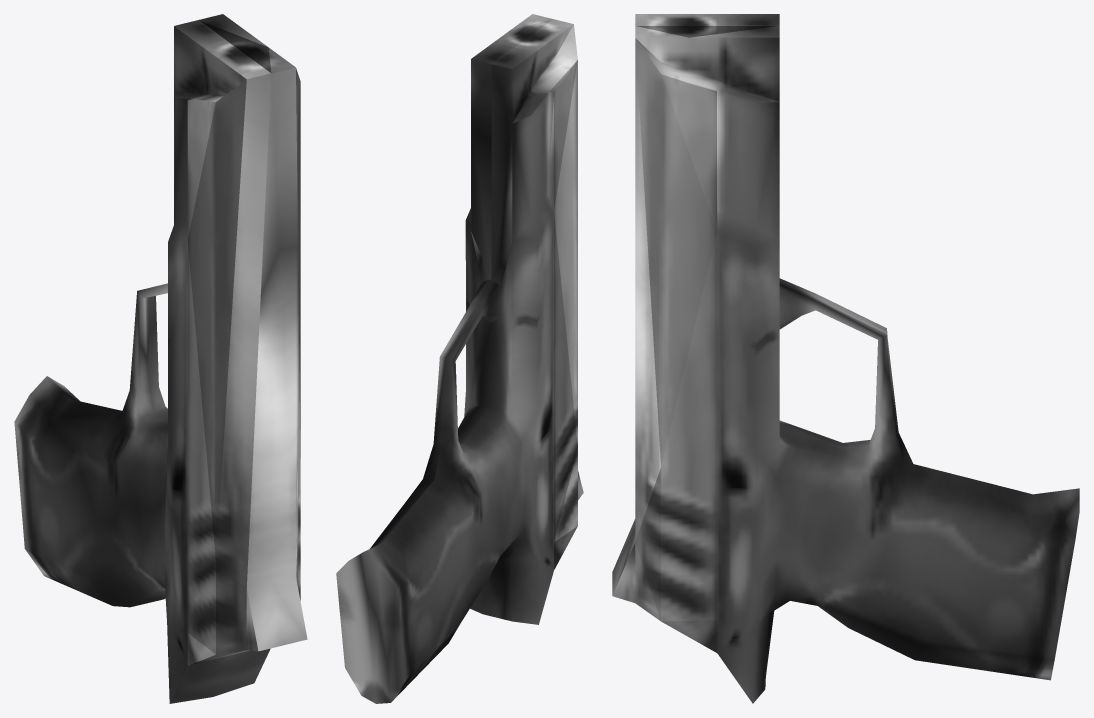
File: DesertEagle.fbx
3 renders of one model, left to right at view 1: azimuth 30°, elevation 25°; view 2: azimuth 150°, elevation 25°; view 3: azimuth 270°, elevation 25°, orthographic. The views are drawn at different scales.
Visible parts, largest first — view 1: node_b085accb_7560_4c70_b2e2_80cd466dd310_mesh0; view 2: node_b085accb_7560_4c70_b2e2_80cd466dd310_mesh0; view 3: node_b085accb_7560_4c70_b2e2_80cd466dd310_mesh0.
Boxes of the visible parts, x1,y1,x2,y2 form: node_b085accb_7560_4c70_b2e2_80cd466dd310_mesh0: (14,14,307,703); node_b085accb_7560_4c70_b2e2_80cd466dd310_mesh0: (336,14,583,703); node_b085accb_7560_4c70_b2e2_80cd466dd310_mesh0: (612,14,1079,703).
Bounding box in the file's own units: 0.0224 × 0.168 × 0.1078.
